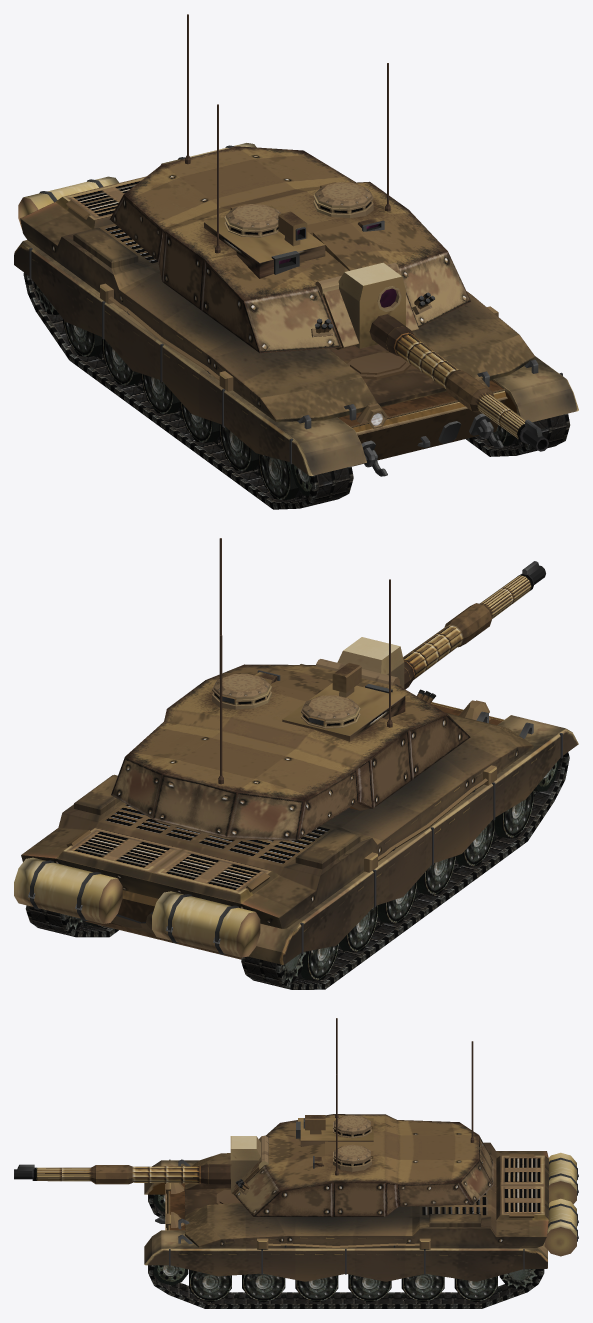
File: challenger3.fbx
3 renders of one model, top to bottom at view 1: azimuth 30°, elevation 25°; view 2: azimuth 150°, elevation 25°; view 3: azimuth 270°, elevation 25°, orthographic. The views are drawn at different scales.
Visible parts, largest first — view 1: polySurface416, polySurface411, polySurface269, polySurface418, polySurface417, pCylinder46, pCylinder47, pCylinder49, pCylinder50, pCylinder51, pCylinder48; view 2: polySurface416, polySurface411, polySurface418, polySurface269, polySurface417, pCylinder46, pCylinder48, pCylinder51, pCylinder50, pCylinder47, pCylinder49; view 3: polySurface416, polySurface411, polySurface269, polySurface417, pCylinder25, pCylinder40, pCylinder43, pCylinder42, pCylinder41, pCylinder44, pCylinder26, pCylinder24.
Boxes of the visible parts, bbox=[...] form: polySurface416: bbox=[14, 143, 578, 476]; polySurface411: bbox=[109, 14, 470, 353]; polySurface269: bbox=[315, 262, 548, 451]; polySurface418: bbox=[23, 272, 353, 509]; polySurface417: bbox=[466, 413, 570, 456]; pCylinder46: bbox=[258, 454, 304, 500]; pCylinder47: bbox=[219, 424, 258, 471]; pCylinder49: bbox=[141, 374, 180, 414]; pCylinder50: bbox=[102, 339, 141, 385]; pCylinder51: bbox=[63, 319, 102, 357]; pCylinder48: bbox=[180, 402, 219, 442]; polySurface416: bbox=[14, 664, 578, 964]; polySurface411: bbox=[111, 538, 470, 840]; polySurface418: bbox=[241, 752, 569, 989]; polySurface269: bbox=[316, 561, 545, 689]; polySurface417: bbox=[25, 905, 118, 937]; pCylinder46: bbox=[494, 790, 533, 838]; pCylinder48: bbox=[416, 856, 455, 895]; pCylinder51: bbox=[297, 943, 338, 980]; pCylinder50: bbox=[338, 905, 377, 952]; pCylinder47: bbox=[455, 820, 494, 866]; pCylinder49: bbox=[377, 882, 416, 923]; polySurface416: bbox=[144, 1142, 578, 1281]; polySurface411: bbox=[234, 1018, 493, 1216]; polySurface269: bbox=[14, 1135, 268, 1194]; polySurface417: bbox=[148, 1265, 544, 1308]; pCylinder25: bbox=[189, 1269, 231, 1302]; pCylinder40: bbox=[242, 1273, 285, 1302]; pCylinder43: bbox=[401, 1274, 444, 1302]; pCylinder42: bbox=[348, 1274, 391, 1302]; pCylinder41: bbox=[295, 1275, 338, 1302]; pCylinder44: bbox=[454, 1276, 497, 1302]; pCylinder26: bbox=[499, 1269, 537, 1289]; pCylinder24: bbox=[153, 1265, 188, 1285].
Size of the model in its own units: 303 by 342 by 797.
